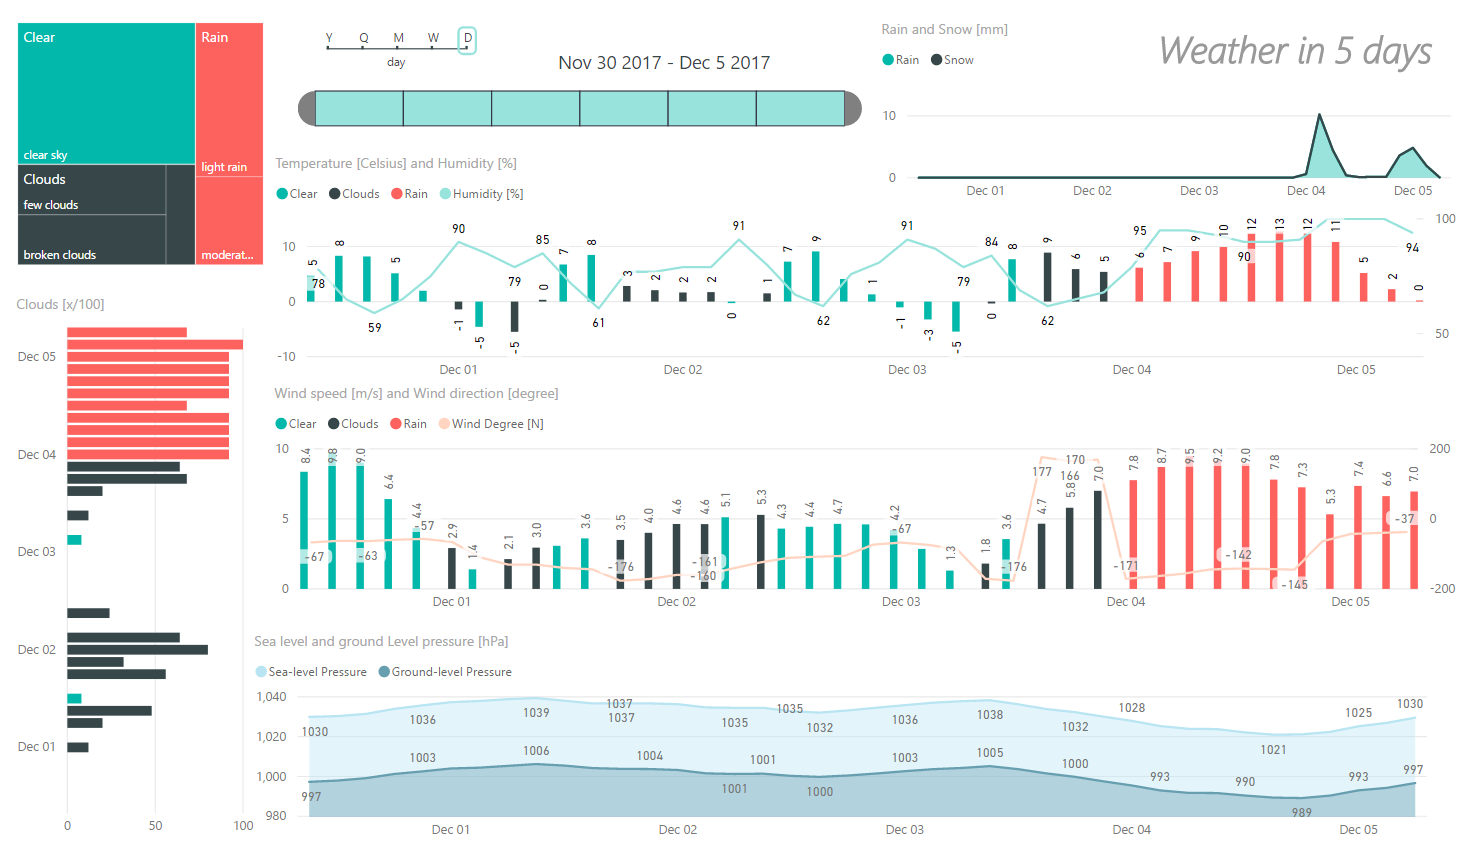

The dashboard page shown, as its layout file describes it:
{"tool":"powerbi","page":{"name":"weather forcast","canvas":[1280,720],"ordinal":1},"visuals":[{"type":"lineClusteredColumnComboChart","fields":{"Y2":["Sum(weatherData.humidity)"],"Y":["Sum(weatherData.temperature)"],"Series":["weatherData.cond"],"Category":["weatherData.client_time"]},"box":[236.8,117.6,1030.3,204.8],"z":0},{"type":"treemap","fields":{"Group":["weatherData.cond"],"Details":["weatherData.condition"],"Values":["CountNonNull(weatherData.condition)"]},"box":[13.7,0,222.9,219.4],"z":6},{"type":"stackedAreaChart","fields":{"Category":["weatherData.client_time"],"Y":["Sum(weatherData.rain)","Sum(weatherData.snow)"]},"box":[760.8,1.6,509.8,166.3],"z":8},{"type":"textbox","box":[1000.1,0,279.9,59.4],"z":9},{"type":"lineClusteredColumnComboChart","fields":{"Y":["Sum(weatherData.wind_speed)"],"Y2":["Sum(weatherData.wind_degree)"],"Series":["weatherData.cond"],"Category":["weatherData.client_time"]},"box":[236,316.4,1031.2,206.6],"z":2000},{"type":"areaChart","fields":{"Category":["weatherData.client_time"],"Y":["Sum(weatherData.sea_level)","Sum(weatherData.pressure)"]},"box":[218.7,530.7,1030.3,189.3],"z":3000},{"type":"Timeline1447991079100","fields":{"Time":["weatherData.client_time"]},"box":[255.7,0,512.9,120.8],"z":4000},{"type":"barChart","fields":{"Y":["Sum(weatherData.clouds)"],"Series":["weatherData.cond"],"Category":["weatherData.client_time"]},"box":[12.8,239.6,215.7,477.5],"z":5000}]}

Visuals, with their boxes in screenshot pixels (x1, y1, x2, y2), scaled from the page's 1280x720 canvas onto the 1473x847 screenshot:
lineClusteredColumnComboChart - Sum(weatherData.humidity) x Sum(weatherData.temperature): [x1=273, y1=138, x2=1458, y2=379]
treemap - weatherData.cond x weatherData.condition: [x1=16, y1=0, x2=272, y2=258]
stackedAreaChart - weatherData.client_time x Sum(weatherData.rain): [x1=876, y1=2, x2=1462, y2=198]
textbox: [x1=1151, y1=0, x2=1472, y2=70]
lineClusteredColumnComboChart - Sum(weatherData.wind_speed) x Sum(weatherData.wind_degree): [x1=272, y1=372, x2=1458, y2=615]
areaChart - weatherData.client_time x Sum(weatherData.sea_level): [x1=252, y1=624, x2=1437, y2=846]
Timeline1447991079100 - weatherData.client_time: [x1=294, y1=0, x2=884, y2=142]
barChart - Sum(weatherData.clouds) x weatherData.cond: [x1=15, y1=282, x2=263, y2=844]
